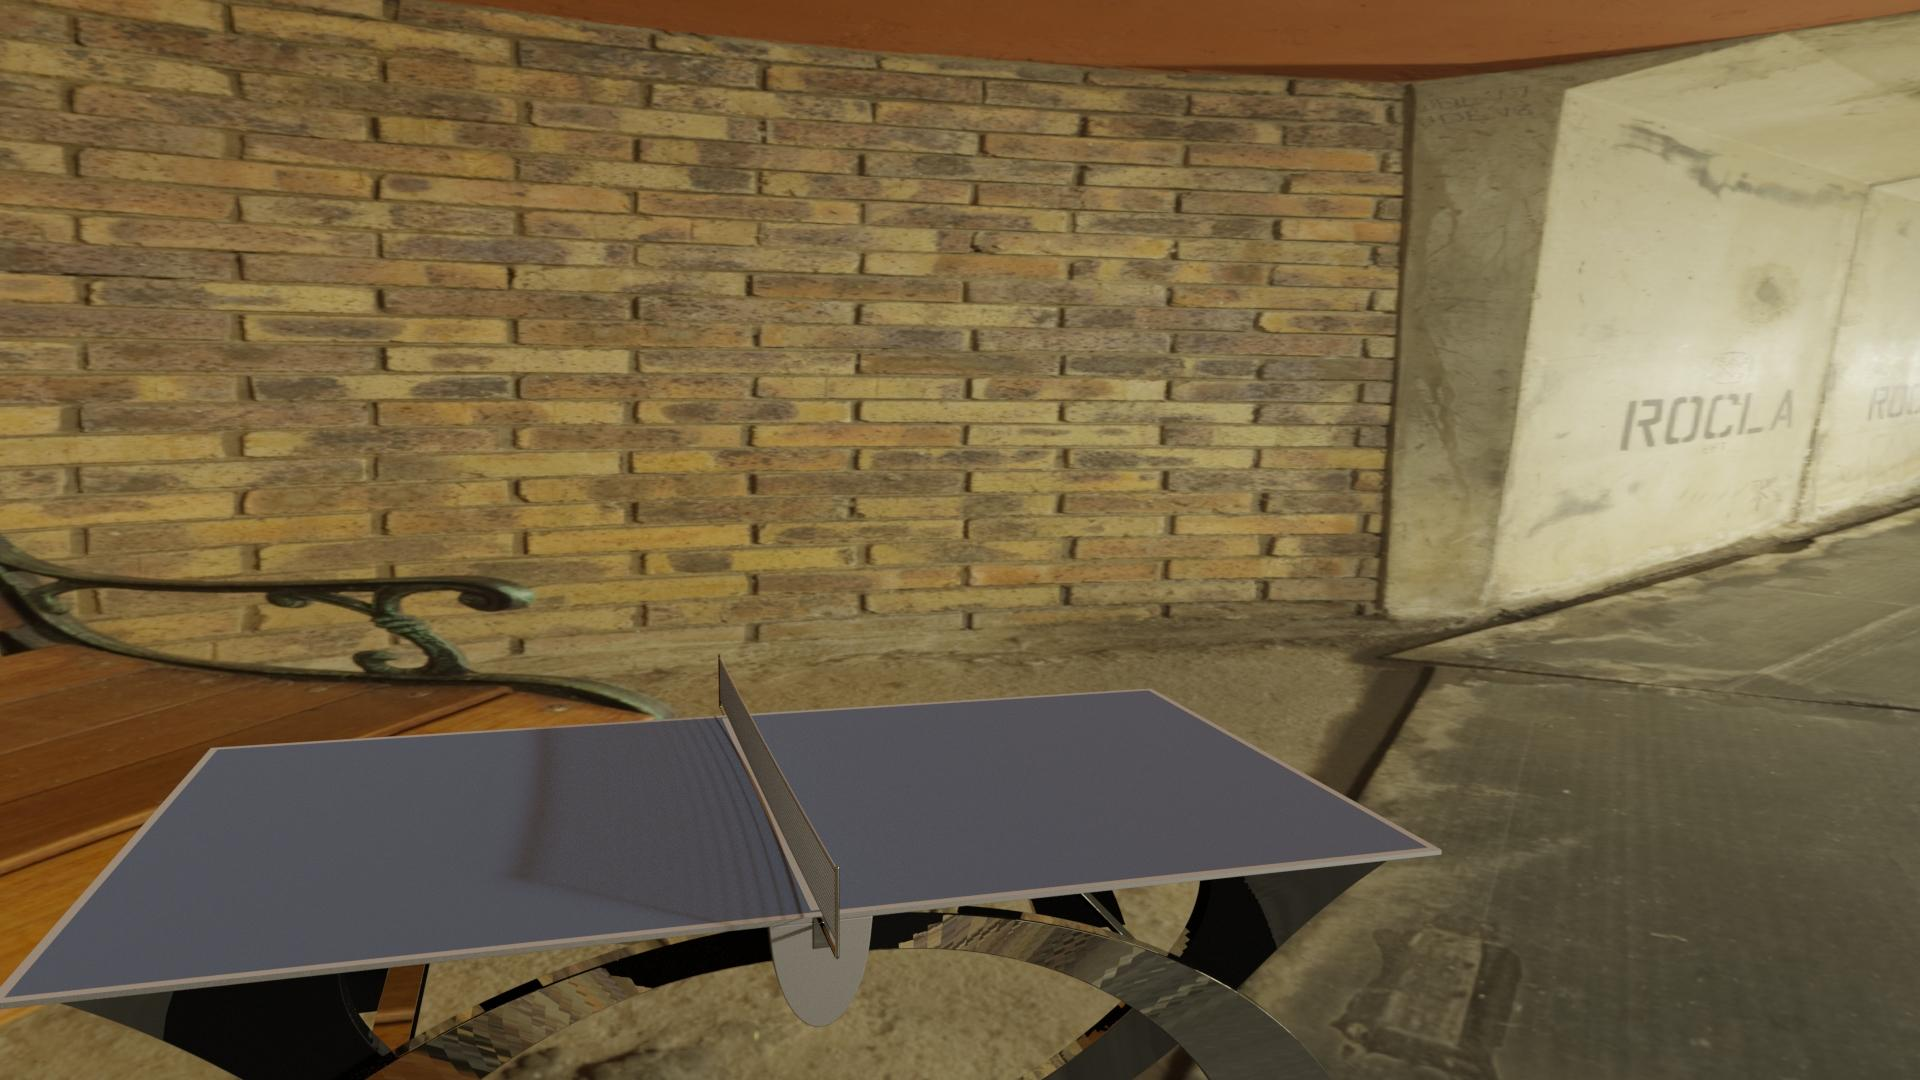table: (4, 690, 1428, 998)
